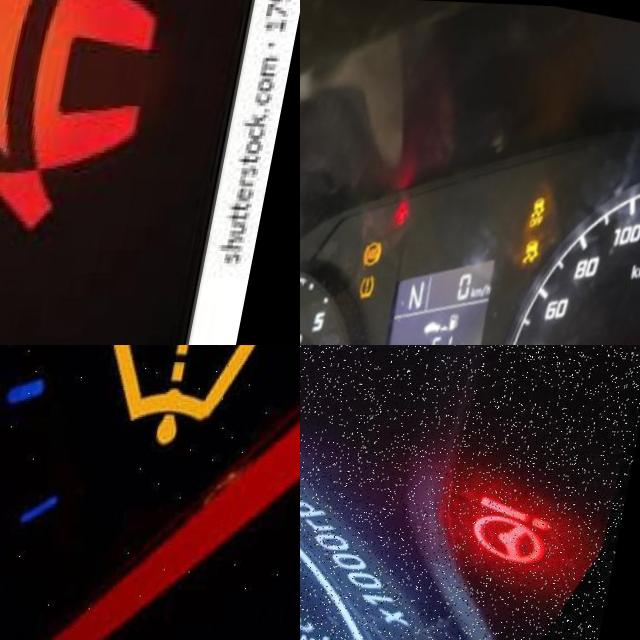Doors: (398, 197, 423, 230)
Electronic Power Steering: (448, 468, 614, 585)
Seat Belt: (0, 0, 185, 222)
Washer Fluid: (102, 345, 287, 446)
